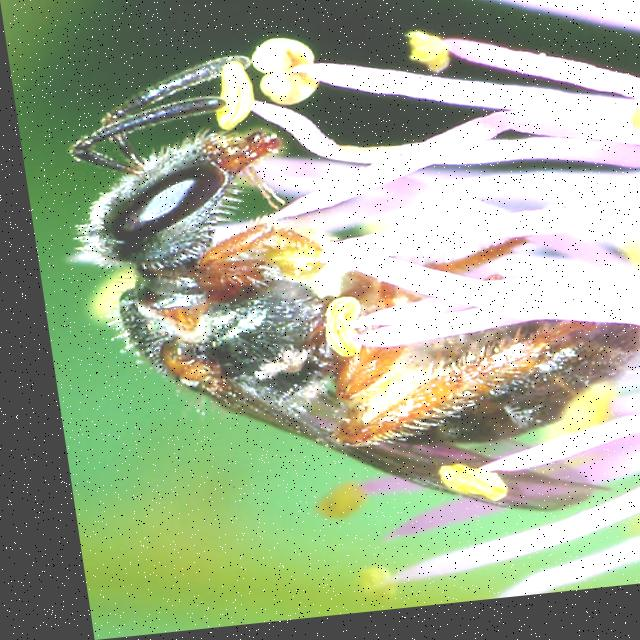Lasioglossum: (44, 0, 640, 552)
